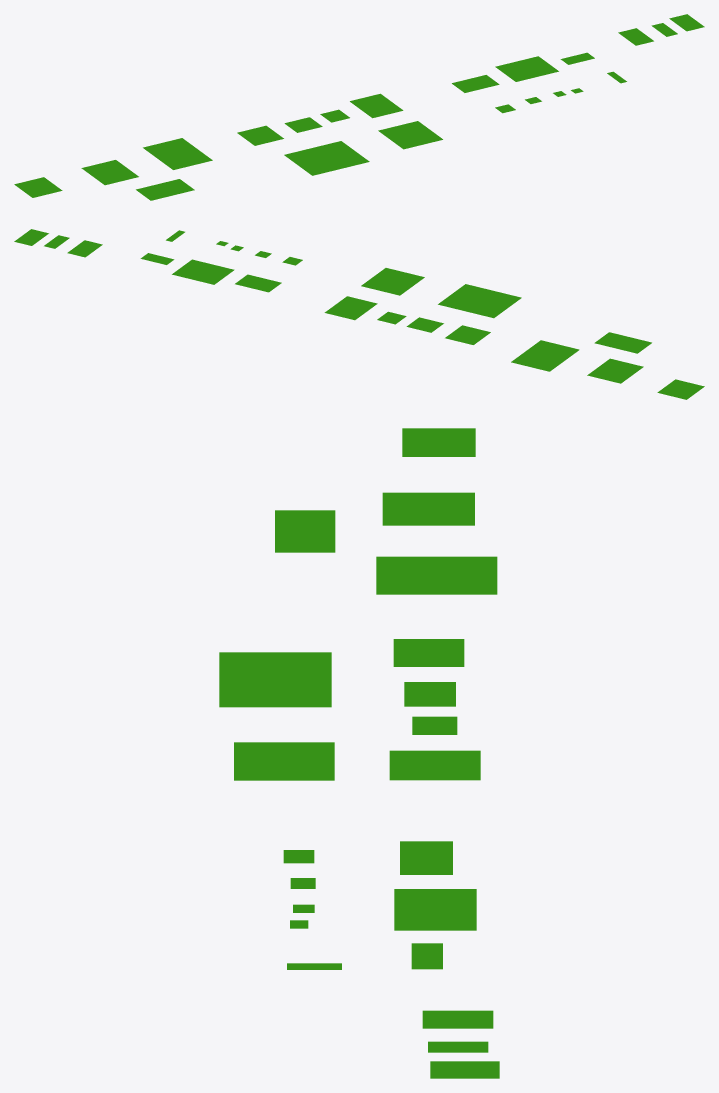
The model's file is Plantes2.fbx.
3 views of the same model, one above another, from view 1: azimuth 30°, elevation 25°; view 2: azimuth 150°, elevation 25°; view 3: azimuth 270°, elevation 25° (orthographic). The views are drawn at different scales.
Visible parts, largest first — view 1: Plane1590, Plane1584, Plane1591, Plane1593, Plane1583, Plane1588, Plane1589, Plane1582, Plane1585, Plane1592, Plane1586, Plane1600 (+1 smaller); view 2: Plane1590, Plane1584, Plane1591, Plane1593, Plane1583, Plane1588, Plane1589, Plane1582, Plane1585, Plane1592, Plane1586, Plane1600 (+1 smaller); view 3: Plane1590, Plane1584, Plane1591, Plane1593, Plane1583, Plane1588, Plane1589, Plane1582, Plane1585, Plane1592, Plane1600, Plane1586 (+1 smaller).
Boxes of the visible parts, left/top/right/bottom form: Plane1590: left=284, top=141, right=369, bottom=175; Plane1584: left=143, top=138, right=212, bottom=169; Plane1591: left=378, top=121, right=442, bottom=149; Plane1593: left=495, top=56, right=558, bottom=81; Plane1583: left=81, top=160, right=138, bottom=185; Plane1588: left=350, top=93, right=403, bottom=118; Plane1589: left=136, top=179, right=194, bottom=200; Plane1582: left=14, top=177, right=62, bottom=197; Plane1585: left=237, top=125, right=283, bottom=145; Plane1592: left=452, top=75, right=499, bottom=92; Plane1586: left=284, top=117, right=322, bottom=132; Plane1600: left=618, top=28, right=653, bottom=45; Plane1590: left=438, top=284, right=521, bottom=318; Plane1584: left=511, top=340, right=579, bottom=371; Plane1591: left=361, top=268, right=424, bottom=295; Plane1593: left=172, top=259, right=234, bottom=284; Plane1583: left=587, top=358, right=643, bottom=383; Plane1588: left=324, top=296, right=377, bottom=320; Plane1589: left=594, top=332, right=651, bottom=353; Plane1582: left=657, top=379, right=704, bottom=399; Plane1585: left=445, top=325, right=490, bottom=344; Plane1592: left=235, top=274, right=281, bottom=292; Plane1586: left=406, top=317, right=443, bottom=332; Plane1600: left=67, top=240, right=102, bottom=257; Plane1590: left=219, top=652, right=331, bottom=707; Plane1584: left=376, top=556, right=497, bottom=594; Plane1591: left=234, top=742, right=334, bottom=780; Plane1593: left=394, top=889, right=476, bottom=930; Plane1583: left=382, top=492, right=474, bottom=525; Plane1588: left=389, top=750, right=480, bottom=780; Plane1589: left=275, top=510, right=335, bottom=552; Plane1582: left=402, top=428, right=475, bottom=456; Plane1585: left=393, top=639, right=464, bottom=666; Plane1592: left=400, top=841, right=452, bottom=874; Plane1600: left=422, top=1010, right=493, bottom=1028; Plane1586: left=404, top=682, right=455, bottom=706.
Bounding box in the file's own units: 2144 × 1.59 × 391.
